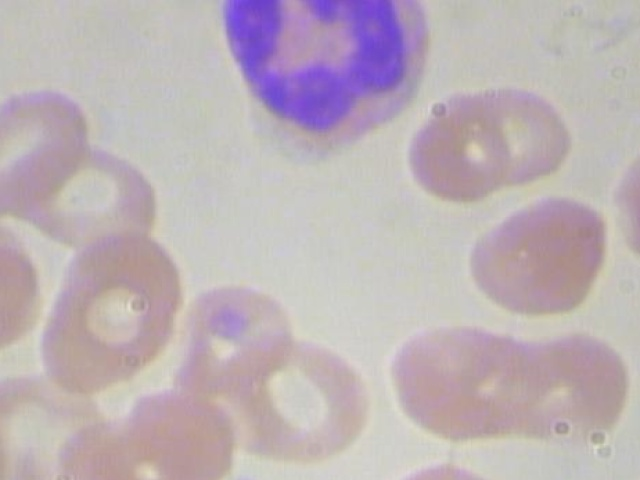RBC: (25, 228, 192, 399), (223, 325, 376, 469), (11, 119, 164, 263), (457, 186, 616, 318), (386, 317, 541, 445), (489, 321, 640, 448), (154, 283, 305, 402), (427, 78, 575, 183), (0, 79, 96, 224), (402, 96, 523, 206), (0, 222, 46, 366), (0, 0, 5, 7)
WBC: (177, 0, 463, 174)
